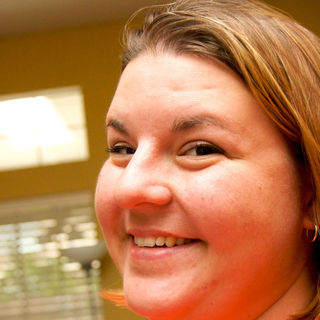eye: (173, 139, 228, 166), (104, 141, 142, 163)
